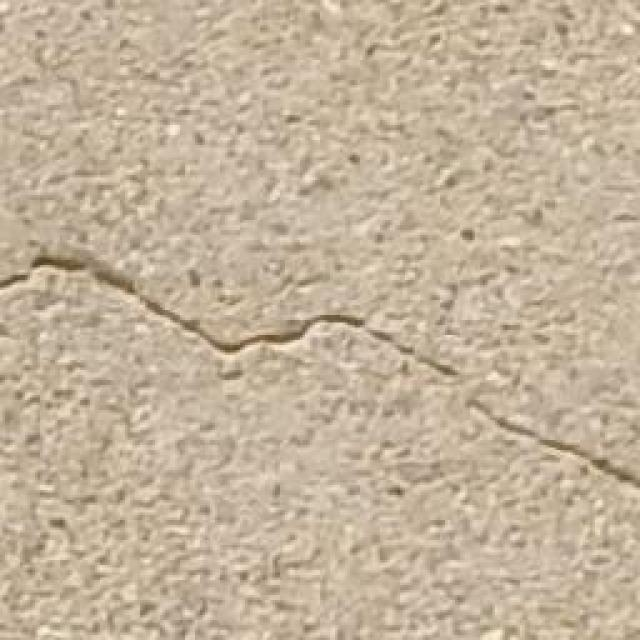concrete-crack: (0, 243, 462, 380), (467, 399, 640, 488)
